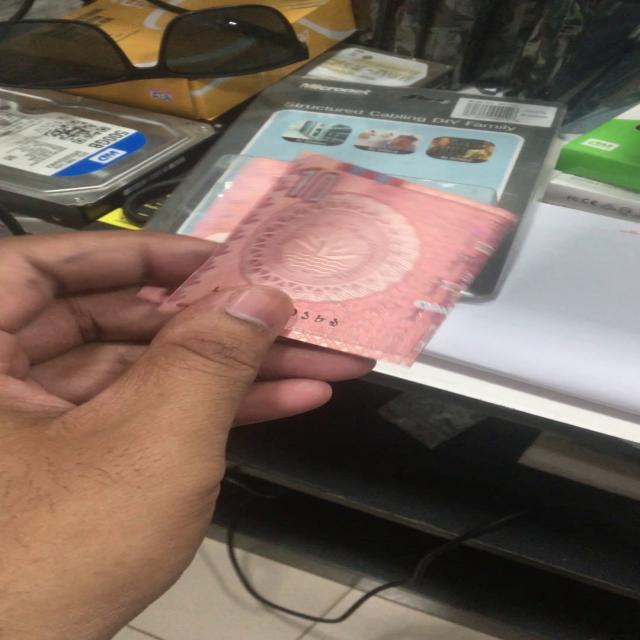Taka: (175, 154, 523, 360)
